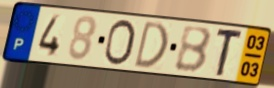4: (36, 14, 62, 59)
8: (67, 14, 99, 64)
B: (173, 26, 214, 75)
D: (131, 19, 170, 70)
O: (101, 18, 137, 68)
T: (214, 29, 245, 78)
